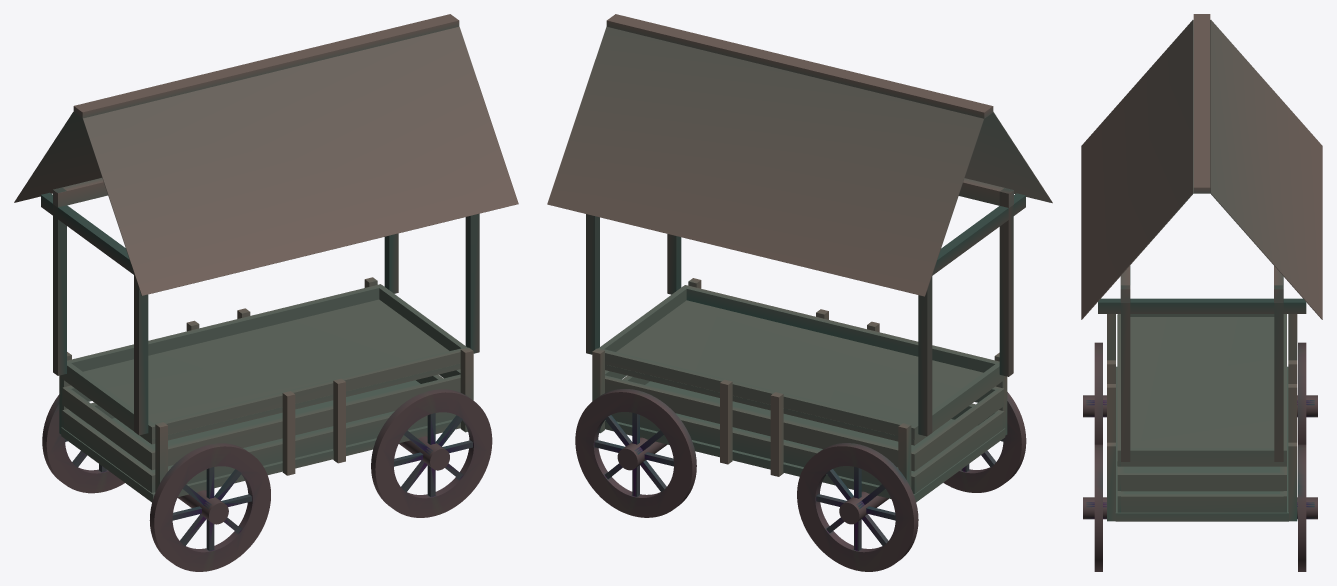
3 views of the same model, side by side, from view 1: azimuth 30°, elevation 25°; view 2: azimuth 150°, elevation 25°; view 3: azimuth 270°, elevation 25° (orthographic). The views are drawn at different scales.
Visible parts, largest first — view 1: roof_slope, deck, rim, rim.003, ridge, side_rail.004, side_rail.002, bottom_floor, side_rail.005, roof_slope.001, side_rail, rim.002 (+16 smaller); view 2: roof_slope.001, deck, rim.001, rim.002, ridge, side_rail.005, bottom_floor, side_rail.004, side_rail.003, roof_slope, side_rail.001, rim.003 (+16 smaller); view 3: roof_slope, roof_slope.001, deck, bottom_floor, end_rail.003, ridge, end_rail.001, crossbeam, end_rail.005, upright, upright.001, rim (+14 smaller).
Boxes of the visible parts, bbox=[...] form: roof_slope: bbox=[82, 26, 518, 295]; deck: bbox=[62, 299, 460, 443]; rim: bbox=[371, 389, 492, 517]; rim.003: bbox=[149, 443, 270, 571]; ridge: bbox=[73, 14, 459, 118]; side_rail.004: bbox=[150, 348, 461, 444]; side_rail.002: bbox=[150, 374, 460, 470]; bottom_floor: bbox=[61, 380, 460, 502]; side_rail.005: bbox=[62, 284, 382, 379]; roof_slope.001: bbox=[14, 112, 101, 202]; side_rail: bbox=[150, 412, 456, 492]; rim.002: bbox=[42, 394, 124, 493]; roof_slope.001: bbox=[547, 26, 983, 296]; deck: bbox=[605, 300, 1003, 444]; rim.001: bbox=[575, 389, 696, 517]; rim.002: bbox=[797, 443, 918, 571]; ridge: bbox=[606, 14, 993, 118]; side_rail.005: bbox=[603, 349, 916, 445]; bottom_floor: bbox=[605, 381, 1005, 502]; side_rail.004: bbox=[683, 285, 1004, 380]; side_rail.003: bbox=[605, 375, 916, 471]; roof_slope: bbox=[964, 112, 1052, 203]; side_rail.001: bbox=[611, 412, 916, 493]; rim.003: bbox=[943, 392, 1026, 492]; roof_slope: bbox=[1081, 20, 1193, 319]; roof_slope.001: bbox=[1210, 20, 1322, 319]; deck: bbox=[1117, 315, 1286, 465]; bottom_floor: bbox=[1115, 366, 1288, 521]; end_rail.003: bbox=[1121, 472, 1283, 491]; ridge: bbox=[1193, 14, 1210, 193]; end_rail.001: bbox=[1121, 494, 1283, 512]; crossbeam: bbox=[1098, 298, 1306, 313]; end_rail.005: bbox=[1121, 448, 1283, 466]; upright: bbox=[1121, 285, 1130, 461]; upright.001: bbox=[1274, 285, 1283, 461]; rim: bbox=[1086, 444, 1106, 571].
Size of the model in its own units: 1.62 by 1.8 by 0.9516.
